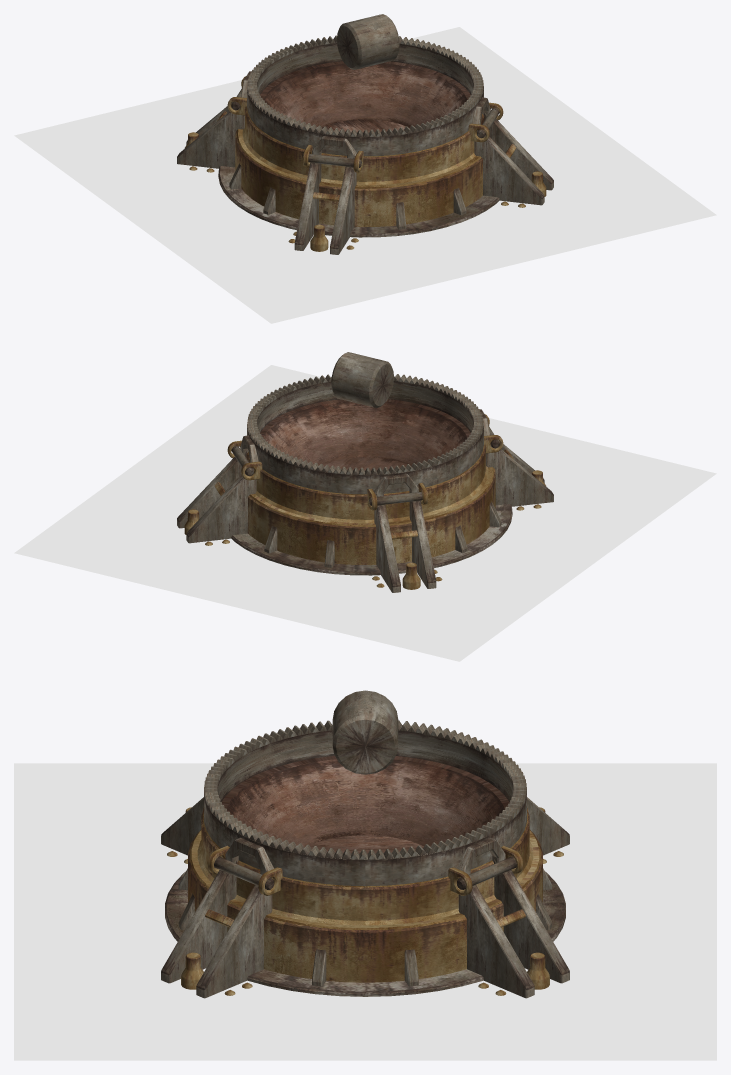
Rendered from static1.glb.
The picture shows the model from 3 angles, top to bottom: view 1: azimuth 30°, elevation 25°; view 2: azimuth 150°, elevation 25°; view 3: azimuth 270°, elevation 25°; orthographic projection. The views are drawn at different scales.
Visible parts, largest first — view 1: scorch, Cylinder_3, Cylinder_3_2, Boole_2, Tube, Cylinder_1, Cylinder_2_2, Cube_1, Cube_Cylinder, Cube_1_3, Cylinder, Cylinder_2; view 2: scorch, Cylinder_3, Cylinder_3_2, Boole_2, Tube, Cylinder_1, Cylinder_2_2, Cube_1, Cube_Cylinder, Cube_1_3, Cylinder, Cylinder_2; view 3: scorch, Cylinder_3, Cylinder_3_2, Boole_2, Tube, Cylinder_1, Cylinder_2_2, Cube_1, Cube_1_3, Cube_Cylinder, Cylinder, Cylinder_2.
Boxes of the visible parts, x1,y1,x2,y2 form: scorch: (14,27,716,323); Cylinder_3: (235,106,484,227); Cylinder_3_2: (260,61,470,132); Boole_2: (177,102,553,254); Tube: (247,39,483,156); Cylinder_1: (218,166,499,237); Cylinder_2_2: (337,14,399,69); Cube_1: (229,163,466,229); Cube_Cylinder: (227,76,503,172); Cube_1_3: (241,71,490,158); Cylinder: (231,88,499,167); Cylinder_2: (184,132,546,251); scorch: (14,365,716,661); Cylinder_3: (246,444,495,565); Cylinder_3_2: (260,399,470,470); Boole_2: (177,440,553,592); Tube: (247,376,483,494); Cylinder_1: (231,504,512,575); Cylinder_2_2: (331,352,393,407); Cube_1: (264,501,501,567); Cube_Cylinder: (227,414,503,510); Cube_1_3: (240,409,489,496); Cylinder: (231,426,499,505); Cylinder_2: (184,470,546,589); scorch: (14,763,716,1060); Cylinder_3: (188,808,542,982); Cylinder_3_2: (222,756,509,853); Boole_2: (161,797,569,998); Tube: (204,725,526,886); Cylinder_1: (165,871,565,996); Cylinder_2_2: (332,690,398,774); Cube_1: (178,868,552,986); Cube_1_3: (225,837,505,874); Cube_Cylinder: (208,771,522,895); Cylinder: (214,856,516,889); Cylinder_2: (181,807,549,989).
Size of the model in its own units: 6.63 by 2.7 by 6.63.
Materials: 4 (4 with a texture image).
